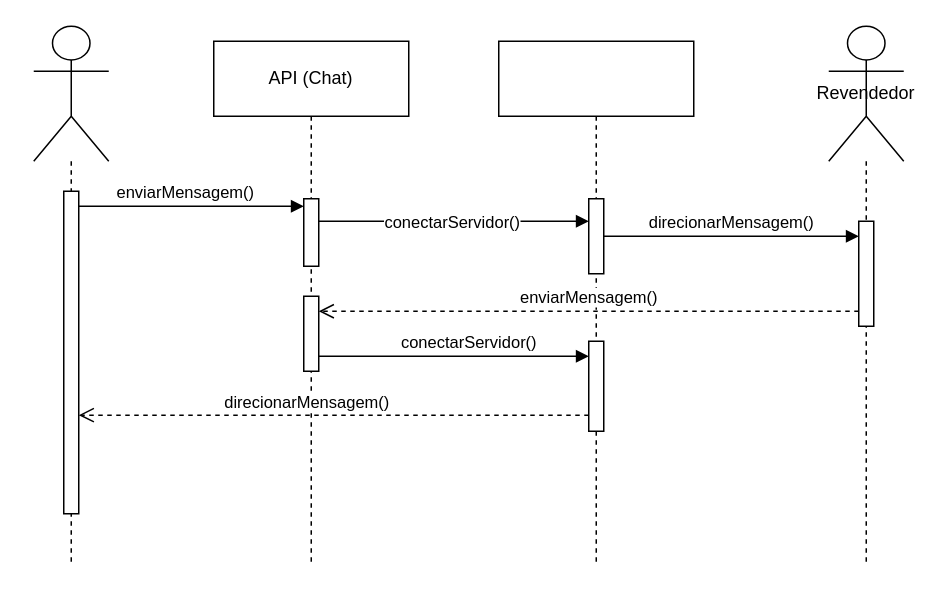
Image size: 941x593. Some labels were removed from this diagram. Each missing label, with the box of its shape:
Comprador: (32, 25, 109, 566)
Servidor: (497, 40, 694, 566)
